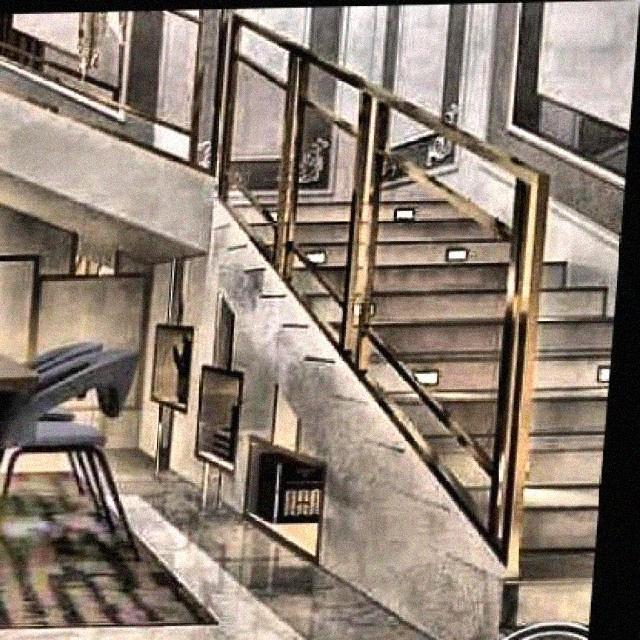stair: (176, 171, 630, 638)
